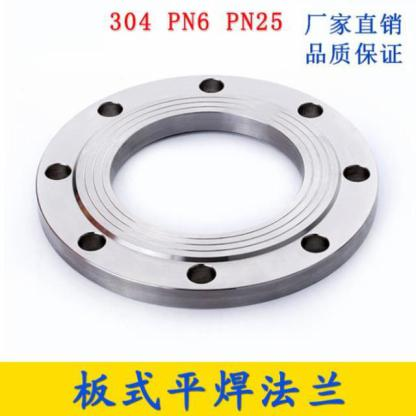FOD: (31, 66, 384, 314)
